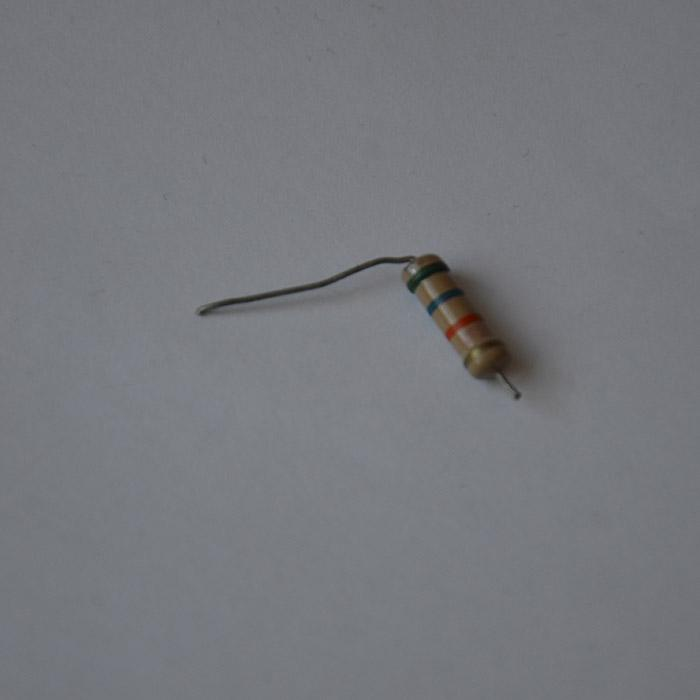resistor: (404, 251, 508, 380)
